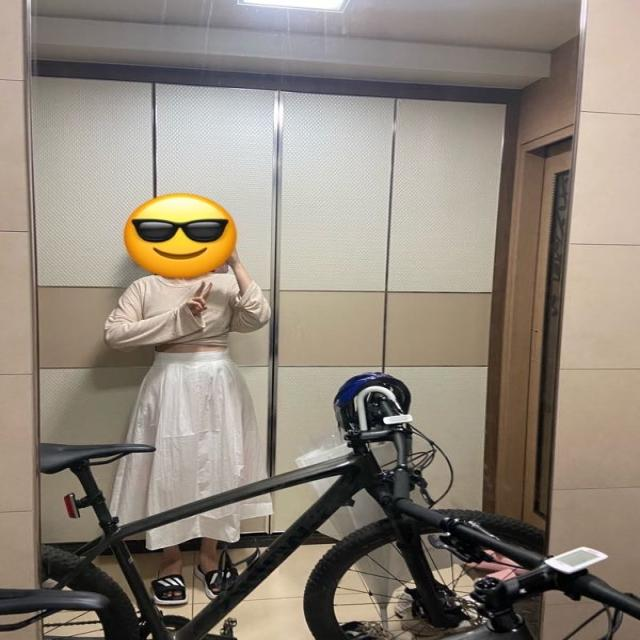longsleeve: (105, 268, 268, 353)
skirt: (102, 342, 270, 548)
